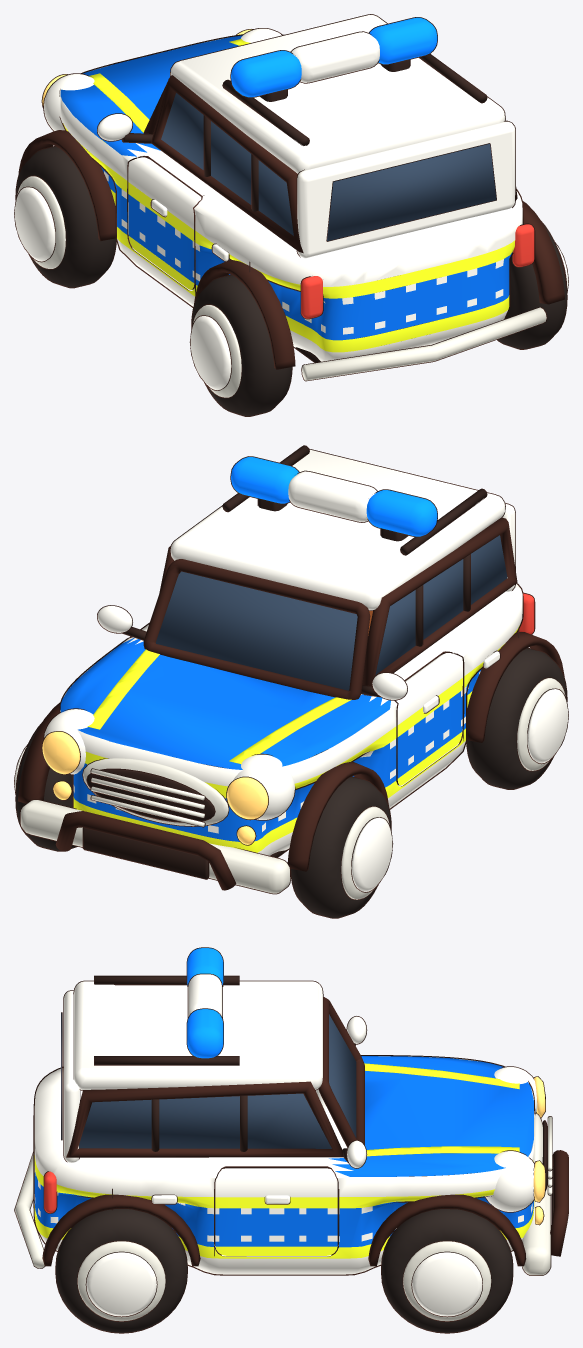
File: streife.glb
3 renders of one model, top to bottom at view 1: azimuth 30°, elevation 25°; view 2: azimuth 150°, elevation 25°; view 3: azimuth 270°, elevation 25°, orthographic. The views are drawn at different scales.
Visible parts, largest first — view 1: Body_Mesh.001, Cube.077, Rear_Window_Mesh.003, Cube.074, Tire_Mesh.012, Tire_Mesh.014, Body_Mesh.007, Bumper_Rear_Curve.002, Side_Window_L_Mesh.006, Outline_Wheel_Arch_Trim_RL, Tire_Mesh.015, Cube.050 (+19 smaller); view 2: Body_Mesh.001, Cube.077, Windshield_Glass, Tire_Mesh.014, Tire_Mesh.012, Outline_Windshield_Frame, Body_Mesh.007, Cube.040, Side_Window_L_Mesh.006, Outline_Front_Protection, Outline_Wheel_Arch_Trim_FL, Cube.050 (+24 smaller); view 3: Body_Mesh.001, Cube.077, Tire_Mesh.013, Tire_Mesh.015, Body_Mesh.008, Side_Window_R_Mesh.006, Outline_Side_Window_Frame_R, Side_Window_R_Mesh.007, Outline_Wheel_Arch_Trim_FR, Outline_Wheel_Arch_Trim_RR, Outline_Side_Window_Frame_R_Tuer, Outline_Windshield_Frame (+18 smaller).
Part boxes in pixels (box(x1,y1,x2,y2)): Body_Mesh.001: box(60, 35, 522, 361); Cube.077: box(170, 14, 504, 173); Rear_Window_Mesh.003: box(327, 143, 496, 241); Cube.074: box(297, 121, 515, 258); Tire_Mesh.012: box(14, 146, 115, 287); Tire_Mesh.014: box(190, 275, 291, 416); Body_Mesh.007: box(128, 157, 201, 289); Bumper_Rear_Curve.002: box(302, 307, 546, 380); Side_Window_L_Mesh.006: box(211, 121, 293, 235); Outline_Wheel_Arch_Trim_RL: box(194, 259, 295, 369); Tire_Mesh.015: box(498, 224, 568, 349); Cube.050: box(291, 32, 379, 82); Body_Mesh.001: box(60, 584, 522, 855); Cube.077: box(170, 449, 504, 610); Windshield_Glass: box(156, 571, 357, 690); Tire_Mesh.014: box(467, 648, 568, 789); Tire_Mesh.012: box(291, 777, 392, 917); Outline_Windshield_Frame: box(143, 559, 370, 699); Body_Mesh.007: box(396, 653, 462, 785); Cube.040: box(20, 800, 290, 893); Side_Window_L_Mesh.006: box(423, 535, 507, 639); Outline_Front_Protection: box(55, 811, 236, 890); Outline_Wheel_Arch_Trim_FL: box(287, 761, 388, 871); Cube.050: box(288, 471, 376, 522); Body_Mesh.001: box(34, 1056, 534, 1274); Cube.077: box(74, 981, 322, 1090); Tire_Mesh.013: box(381, 1209, 512, 1332); Tire_Mesh.015: box(56, 1209, 187, 1332); Body_Mesh.008: box(215, 1168, 337, 1255); Side_Window_R_Mesh.006: box(79, 1096, 239, 1148); Outline_Side_Window_Frame_R: box(66, 1084, 239, 1157); Side_Window_R_Mesh.007: box(239, 1093, 331, 1148); Outline_Wheel_Arch_Trim_FR: box(368, 1194, 526, 1266); Outline_Wheel_Arch_Trim_RR: box(42, 1194, 200, 1266); Outline_Side_Window_Frame_R_Tuer: box(239, 1081, 343, 1157); Outline_Windshield_Frame: box(318, 997, 364, 1147).
Size of the model in its own units: 1.65 by 1.37 by 2.45.
